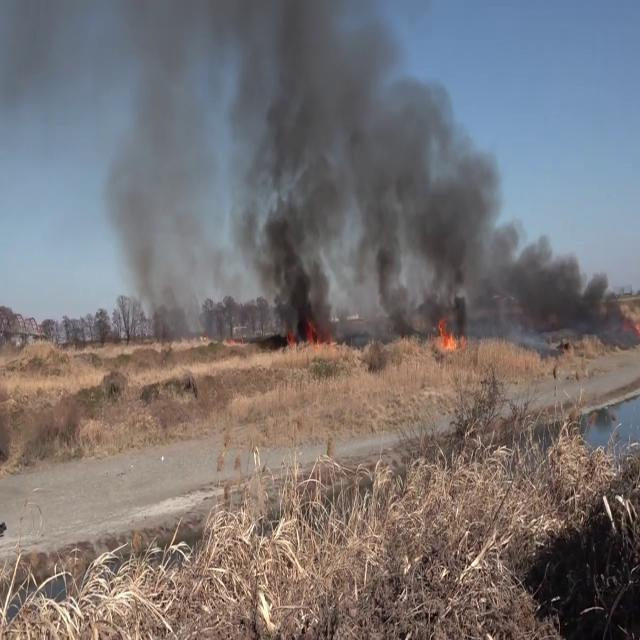Fire: (432, 310, 466, 354)
Smoke: (62, 0, 362, 329), (348, 52, 632, 350)
